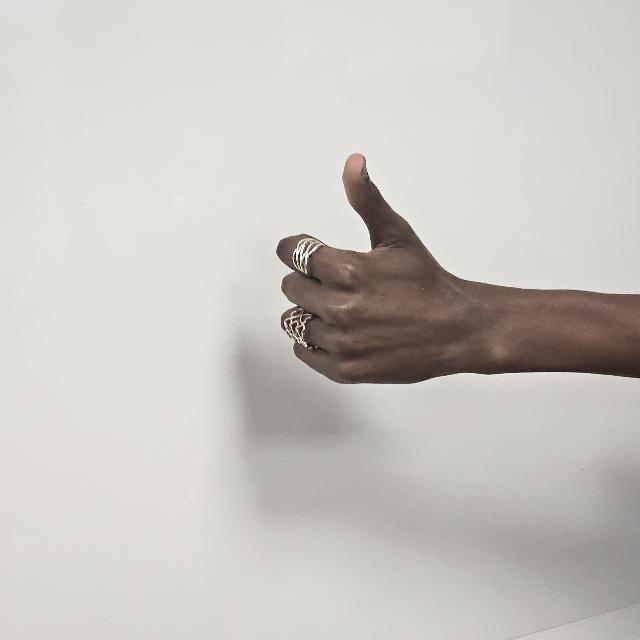Start: (270, 149, 488, 427)
